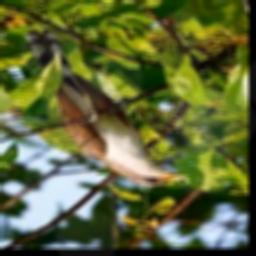Cuckoo: (25, 28, 189, 186)
